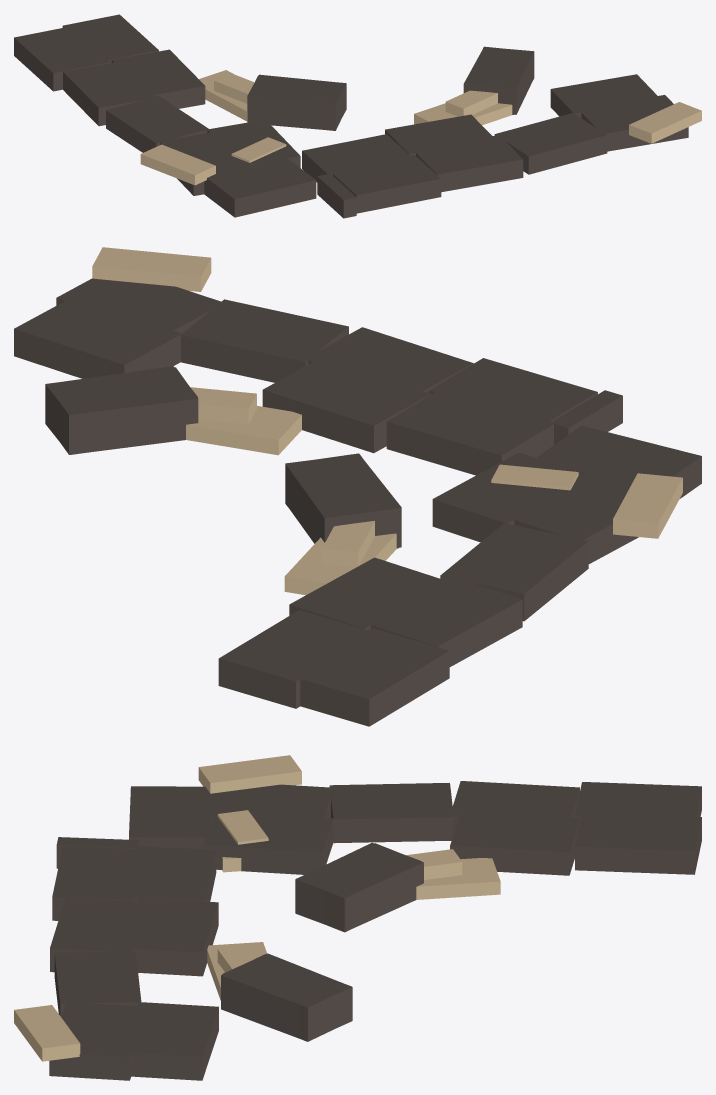
Rendered from SM_PretilEsquina_v1_Talud_e3_Brecha_LOD0.fbx.
3 renders of one model, top to bottom at view 1: azimuth 30°, elevation 25°; view 2: azimuth 150°, elevation 25°; view 3: azimuth 270°, elevation 25°, orthographic. The views are drawn at different scales.
Parts seen in each view (by area): view 1: SM_pretil_azotea_v27_LOD0; view 2: SM_pretil_azotea_v27_LOD0; view 3: SM_pretil_azotea_v27_LOD0.
Boxes of the visible parts, x1,y1,x2,y2 form: SM_pretil_azotea_v27_LOD0: (14, 14, 701, 218); SM_pretil_azotea_v27_LOD0: (14, 247, 701, 726); SM_pretil_azotea_v27_LOD0: (14, 755, 701, 1080).
Size of the model in its own units: 4.78 by 0.26 by 4.74.
